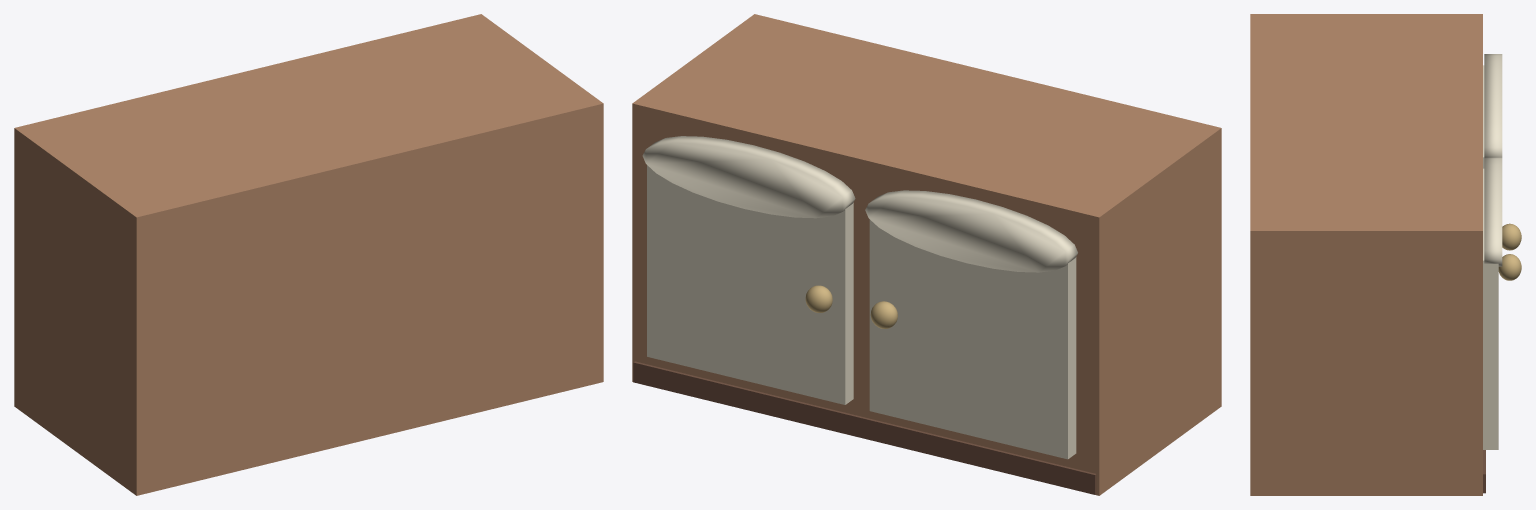
Rendered from dresser.arch-old.glb.
The picture shows the model from 3 angles, left to right: view 1: azimuth 30°, elevation 25°; view 2: azimuth 150°, elevation 25°; view 3: azimuth 270°, elevation 25°; orthographic projection. The views are drawn at different scales.
Visible parts, largest first — view 1: arched chest body; view 2: arched chest body; view 3: arched chest body.
Part boxes in pixels (x1=…): arched chest body: x1=14, y1=14, x2=603, y2=495; arched chest body: x1=632, y1=14, x2=1221, y2=495; arched chest body: x1=1250, y1=14, x2=1521, y2=495.
Size of the model in its own units: 1.72 by 0.98 by 0.91.
